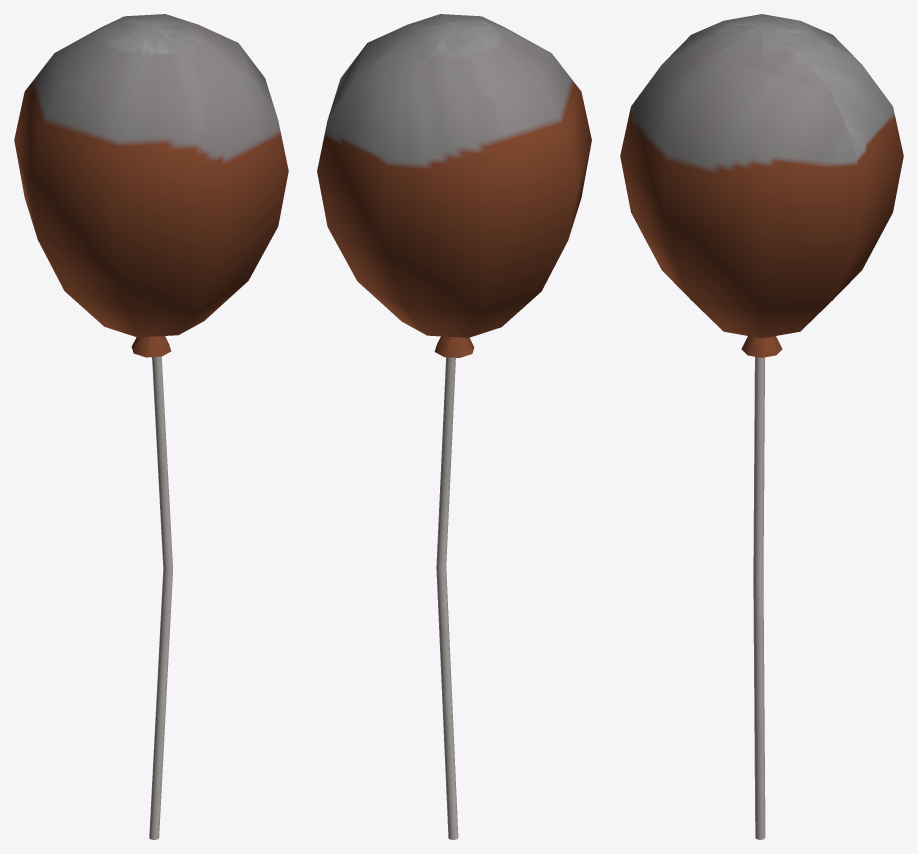
The model's file is Balloon1.fbx.
3 renders of one model, left to right at view 1: azimuth 30°, elevation 25°; view 2: azimuth 150°, elevation 25°; view 3: azimuth 270°, elevation 25°, orthographic.
Visible parts, largest first — view 1: polySurface226; view 2: polySurface226; view 3: polySurface226.
Boxes of the visible parts, x1,y1,x2,y2 form: polySurface226: (14, 14, 288, 839); polySurface226: (317, 14, 591, 839); polySurface226: (620, 14, 903, 839).
Size of the model in its own units: 0.4182 by 1.32 by 0.4182.
